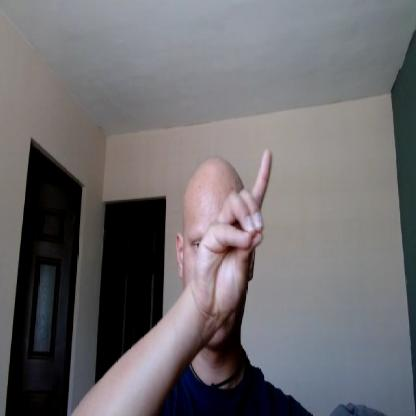D: (194, 148, 272, 322)
